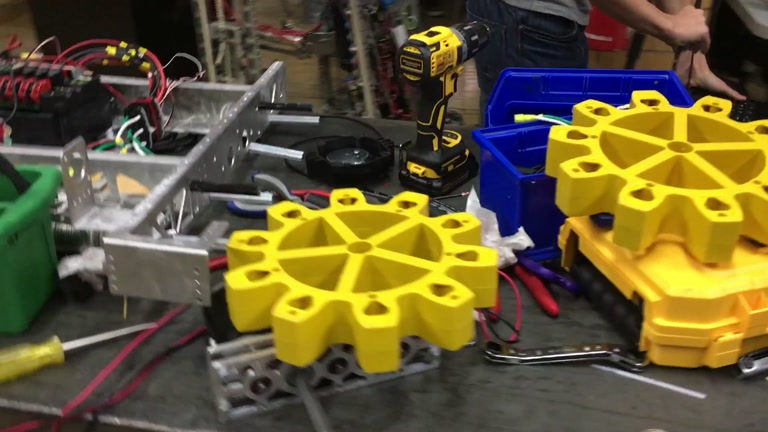gear: (223, 187, 498, 374), (545, 88, 767, 266)
